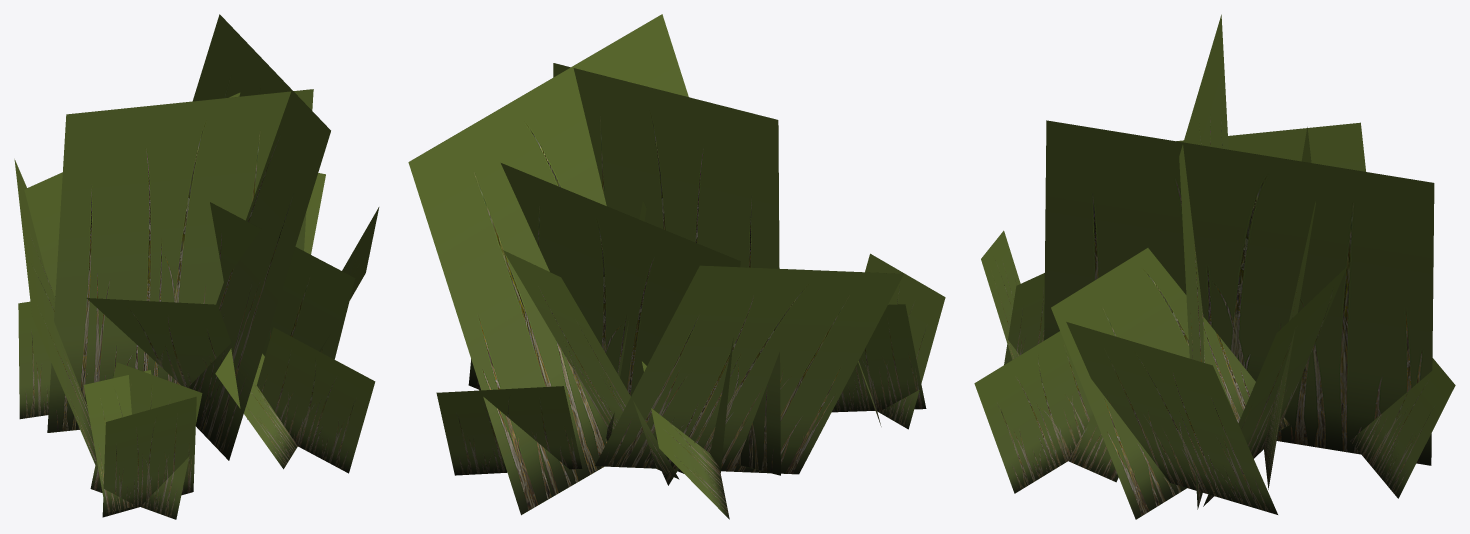
Rendered from plant_mesh_05.FBX.
The picture shows the model from 3 angles, left to right: view 1: azimuth 30°, elevation 25°; view 2: azimuth 150°, elevation 25°; view 3: azimuth 270°, elevation 25°; orthographic projection. The views are drawn at different scales.
Visible parts, largest first — view 1: plant_mesh_05; view 2: plant_mesh_05; view 3: plant_mesh_05.
Part boxes in pixels (bbox=[...]): plant_mesh_05: bbox=[14, 14, 379, 519]; plant_mesh_05: bbox=[408, 14, 945, 519]; plant_mesh_05: bbox=[974, 14, 1455, 519].
Bounding box in the file's own units: 739 × 647 × 717.
